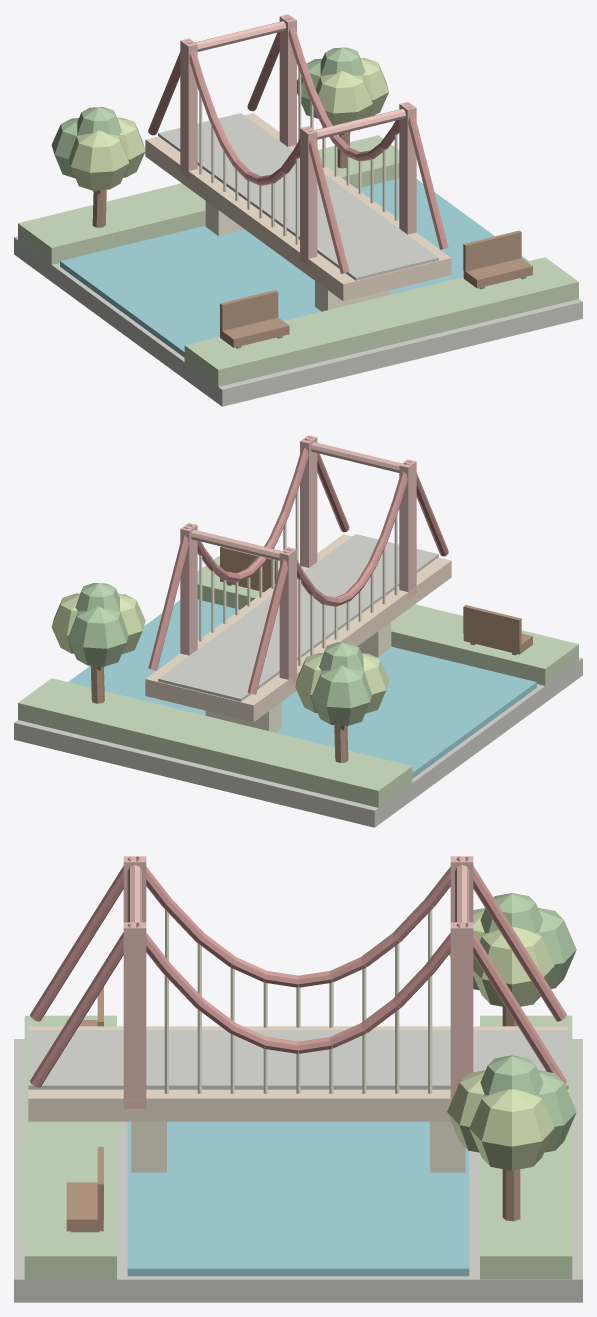
Rendered from dot-tpl-bridge.glb.
3 renders of one model, top to bottom at view 1: azimuth 30°, elevation 25°; view 2: azimuth 150°, elevation 25°; view 3: azimuth 270°, elevation 25°, orthographic. The views are drawn at different scales.
Parts seen in each view (by area): view 1: paving; view 2: paving; view 3: paving.
Boxes of the visible parts, bbox=[...] form: paving: bbox=[14, 14, 582, 406]; paving: bbox=[14, 435, 582, 827]; paving: bbox=[14, 856, 582, 1302].
Bounding box in the file's own units: 4 × 2.27 × 4.
Materials: 1 (1 with a texture image).
